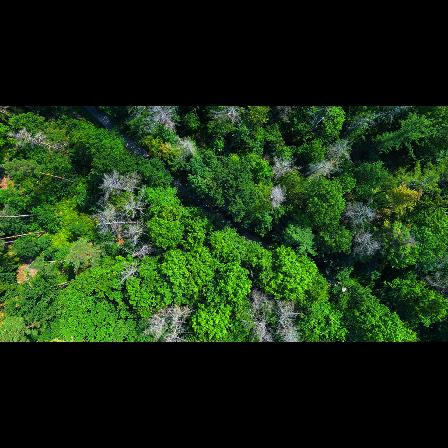Dead: (7, 130, 72, 157), (129, 106, 184, 134), (100, 171, 140, 193), (348, 229, 380, 256), (339, 201, 374, 222), (245, 318, 275, 342), (248, 288, 274, 315), (147, 309, 168, 340), (420, 273, 448, 296), (270, 152, 291, 182), (116, 264, 139, 291), (94, 217, 147, 228), (277, 318, 299, 342), (300, 160, 329, 178), (129, 241, 159, 258), (164, 319, 184, 343), (273, 301, 298, 319), (265, 187, 288, 205), (170, 306, 189, 325), (326, 140, 346, 155)
